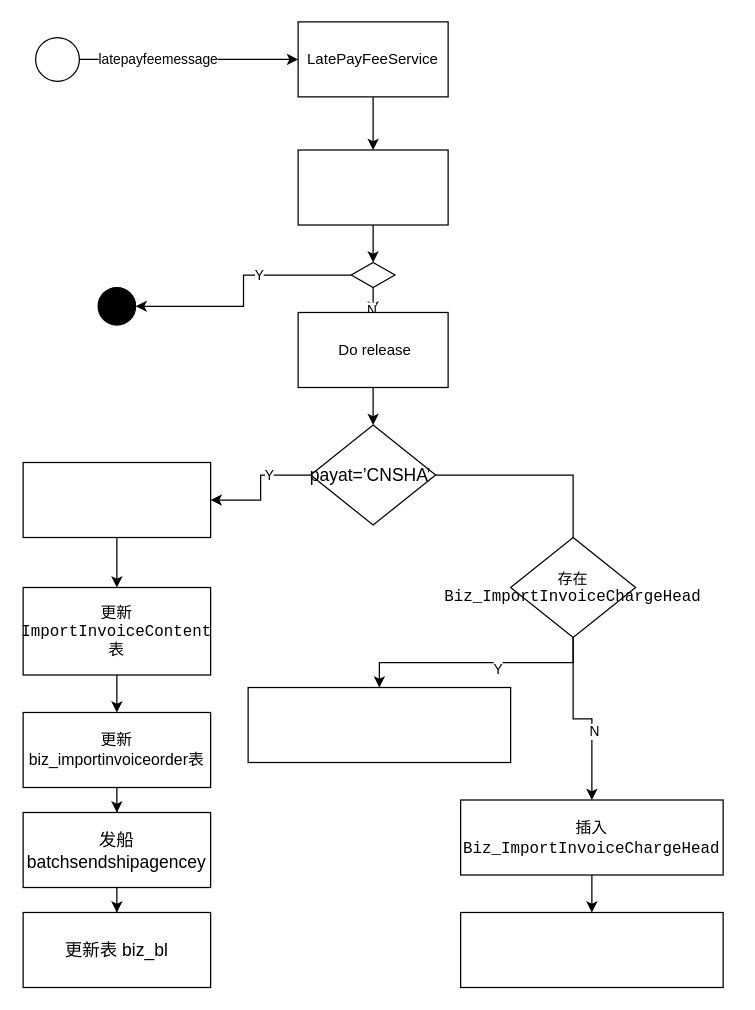
Some shapes in this 755 by 1010 pixel diagram are drawn without their labels. The shapes that lost their labels are listed below. From the top down, each one's centre as x and y in pixels, then its label:
point (372, 187): cash customer not pay
point (116, 499): 更新 ImportInvoiceOperate 表
point (379, 724): 更新Biz_ImportInvoiceChargeHead
point (591, 949): 插入两条Biz_ImportInvoiceChargeContent
